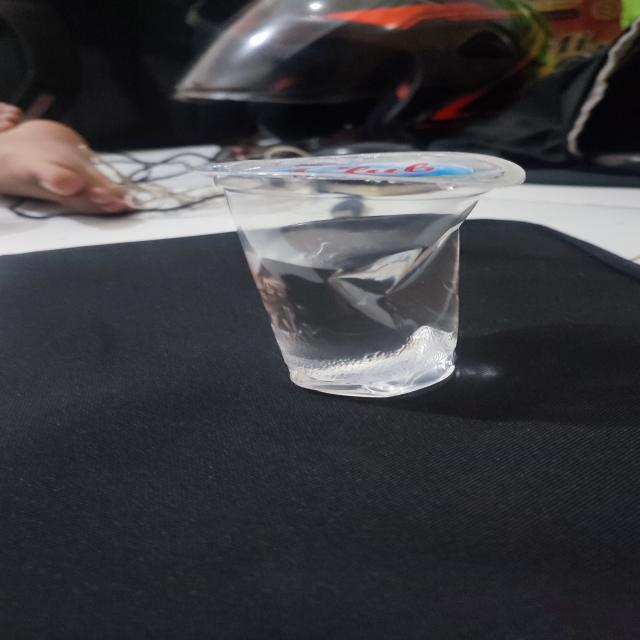air-gelas-rusak: (180, 142, 532, 401)
